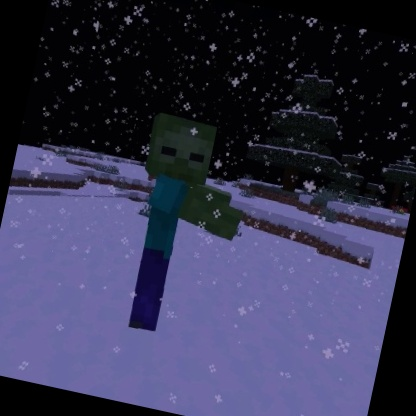zombie: (103, 105, 266, 353)
